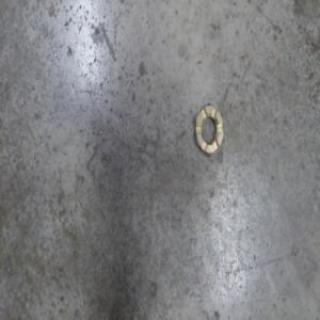Nuttrack_idkeyframe: (193, 102, 223, 160)
